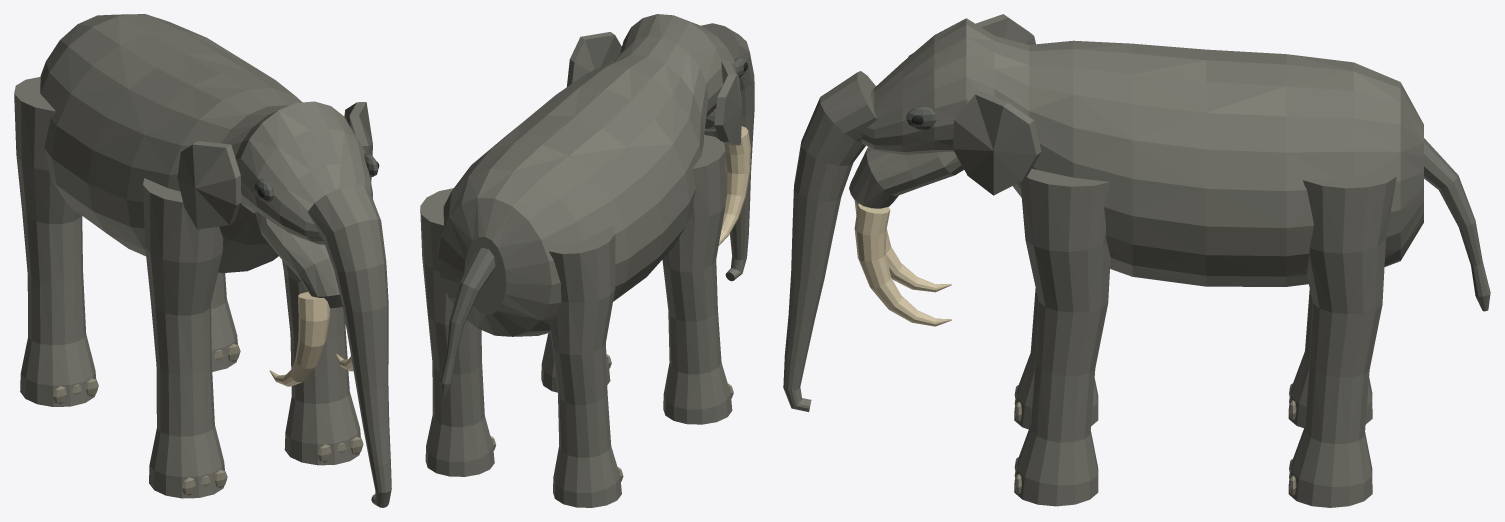
3 views of the same model, side by side, from view 1: azimuth 30°, elevation 25°; view 2: azimuth 150°, elevation 25°; view 3: azimuth 270°, elevation 25° (orthographic). The views are drawn at different scales.
Parts seen in each view (by area): view 1: continuous-torso-neck-long-skull, right-forelimb, right-hindlimb, nasal-trunk-artistic-estimate, left-forelimb, right-ear-estimate, downturned-mandible, right-mandibular-tusk, left-hindlimb, left-ear-estimate; view 2: continuous-torso-neck-long-skull, right-hindlimb, right-forelimb, left-hindlimb, nasal-trunk-artistic-estimate, small-tapered-tail, right-mandibular-tusk, right-ear-estimate, left-ear-estimate, left-forelimb; view 3: continuous-torso-neck-long-skull, left-forelimb, left-hindlimb, nasal-trunk-artistic-estimate, left-ear-estimate, downturned-mandible, left-mandibular-tusk, small-tapered-tail, right-forelimb, right-hindlimb, right-mandibular-tusk, right-ear-estimate.
Boxes of the visible parts, x1,y1,x2,y2 form: continuous-torso-neck-long-skull: (40,14,372,273); right-forelimb: (143,178,224,498); right-hindlimb: (14,77,96,406); nasal-trunk-artistic-estimate: (308,185,391,507); left-forelimb: (282,260,360,465); right-ear-estimate: (177,141,241,229); downturned-mandible: (255,211,342,308); right-mandibular-tusk: (269,292,329,386); left-hindlimb: (211,273,237,371); left-ear-estimate: (344,102,372,182); continuous-torso-neck-long-skull: (437,14,742,336); right-hindlimb: (549,225,621,507); right-forelimb: (662,134,732,424); left-hindlimb: (420,188,494,476); nasal-trunk-artistic-estimate: (701,23,754,281); small-tapered-tail: (440,247,495,396); right-mandibular-tusk: (718,126,750,245); right-ear-estimate: (714,60,742,145); left-ear-estimate: (567,32,621,86); left-forelimb: (541,332,610,392); continuous-torso-neck-long-skull: (861,18,1423,286); left-forelimb: (1014,168,1110,506); left-hindlimb: (1288,169,1396,507); nasal-trunk-artistic-estimate: (783,71,876,411); left-ear-estimate: (953,90,1041,195); downturned-mandible: (849,147,964,208); left-mandibular-tusk: (854,203,951,326); small-tapered-tail: (1424,138,1490,311); right-forelimb: (1014,288,1098,429); right-hindlimb: (1288,289,1372,427); right-mandibular-tusk: (854,201,951,292); right-ear-estimate: (976,14,1035,44).
Bounding box in the file's own units: 2.13 × 3.84 × 5.75.
